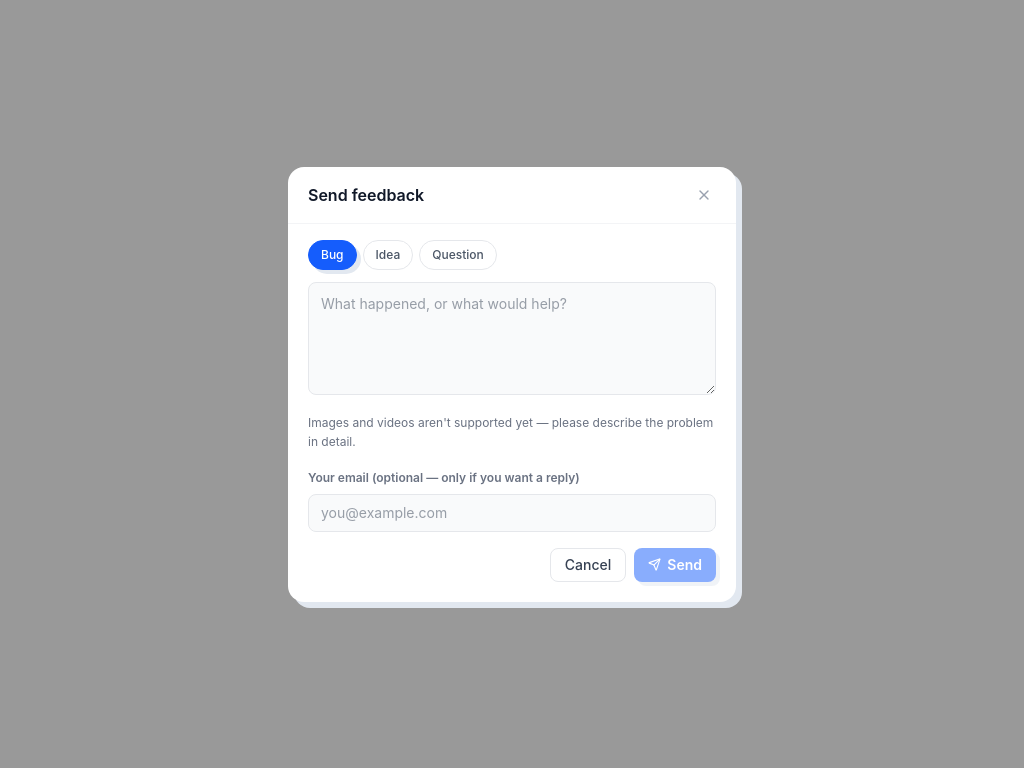
Scenario: FeedbackDialog › offers the GitHub issues page as fallback when sending fails
This screenshot has width=1024, height=768.
In the text box with placeholder "What happened, or what would help?": (512, 338) x1=308 y1=282 x2=716 y2=394, type "It broke"
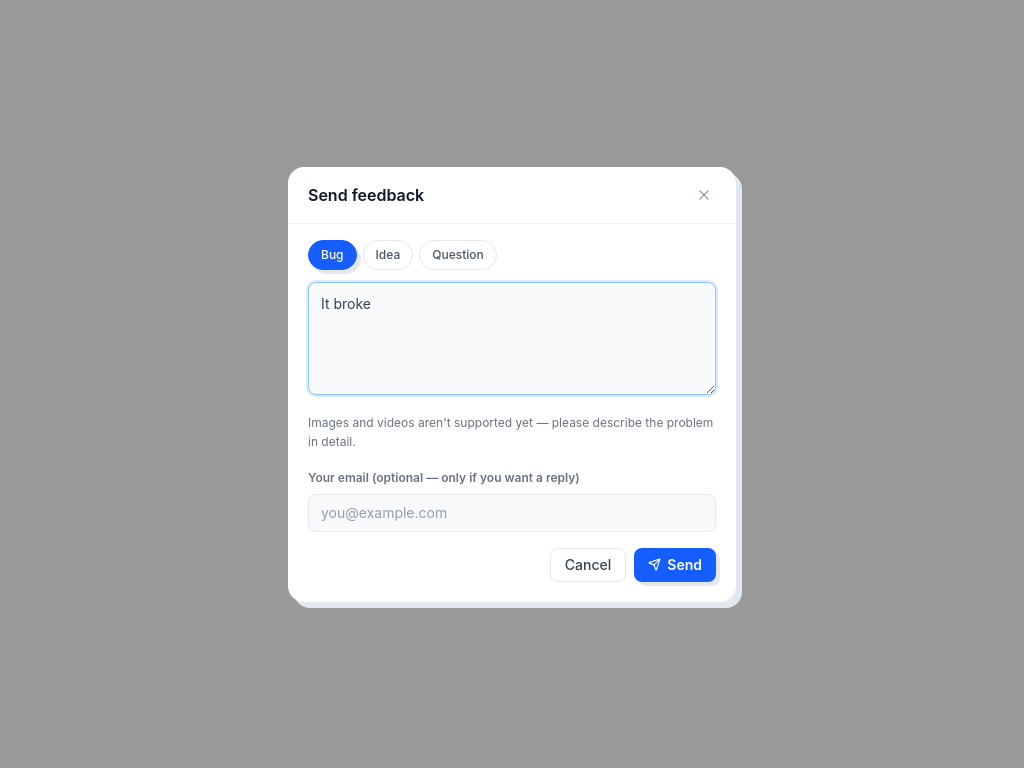
Click the button "Send": (675, 564) x1=634 y1=548 x2=716 y2=582
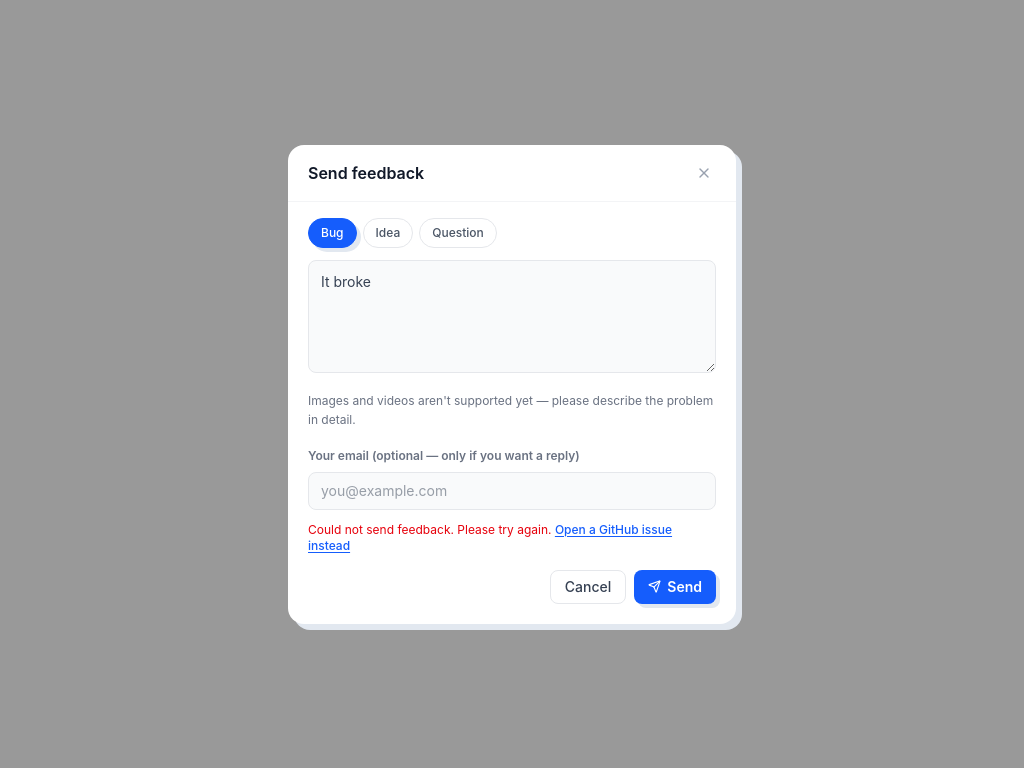
Expected: the text "Could not send feedback. Please try again." is shown, x1=308 y1=522 x2=552 y2=536
